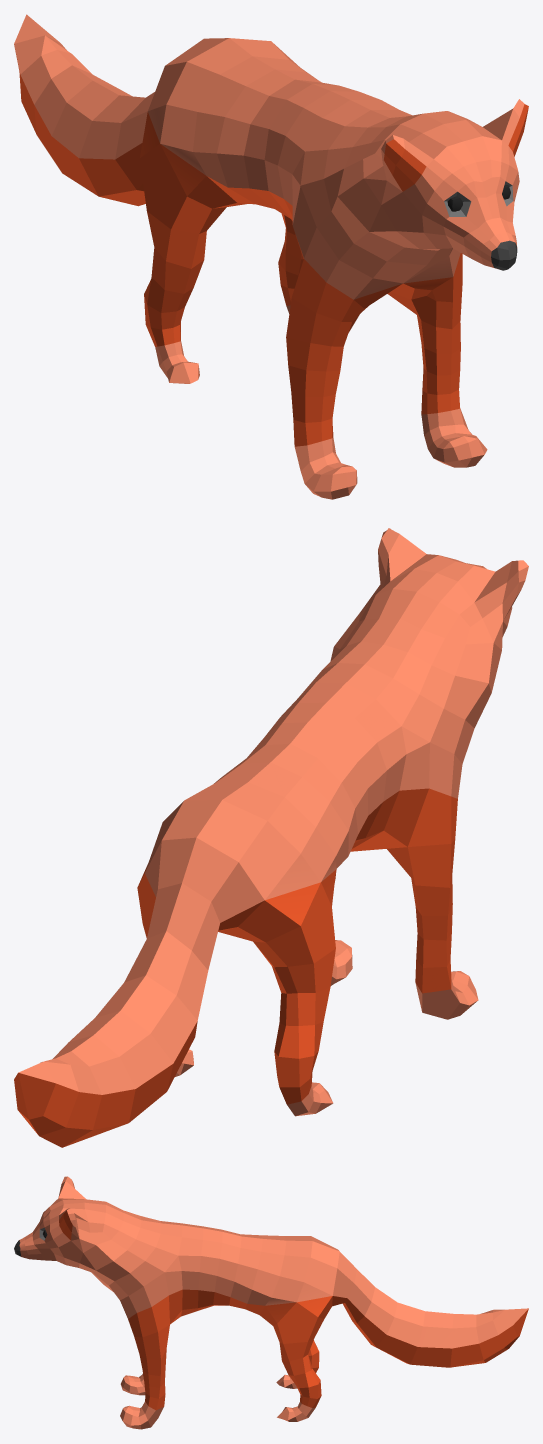
Rendered from animal_021.fbx.
3 renders of one model, top to bottom at view 1: azimuth 30°, elevation 25°; view 2: azimuth 150°, elevation 25°; view 3: azimuth 270°, elevation 25°, orthographic. The views are drawn at different scales.
Visible parts, largest first — view 1: animal.021; view 2: animal.021; view 3: animal.021.
Boxes of the visible parts, <box> form: animal.021: <box>14,14,528,499</box>; animal.021: <box>14,528,528,1147</box>; animal.021: <box>14,1176,528,1429</box>.
Bounding box in the file's own units: 74.56 × 168 × 361.
1 material, 1 textured.
